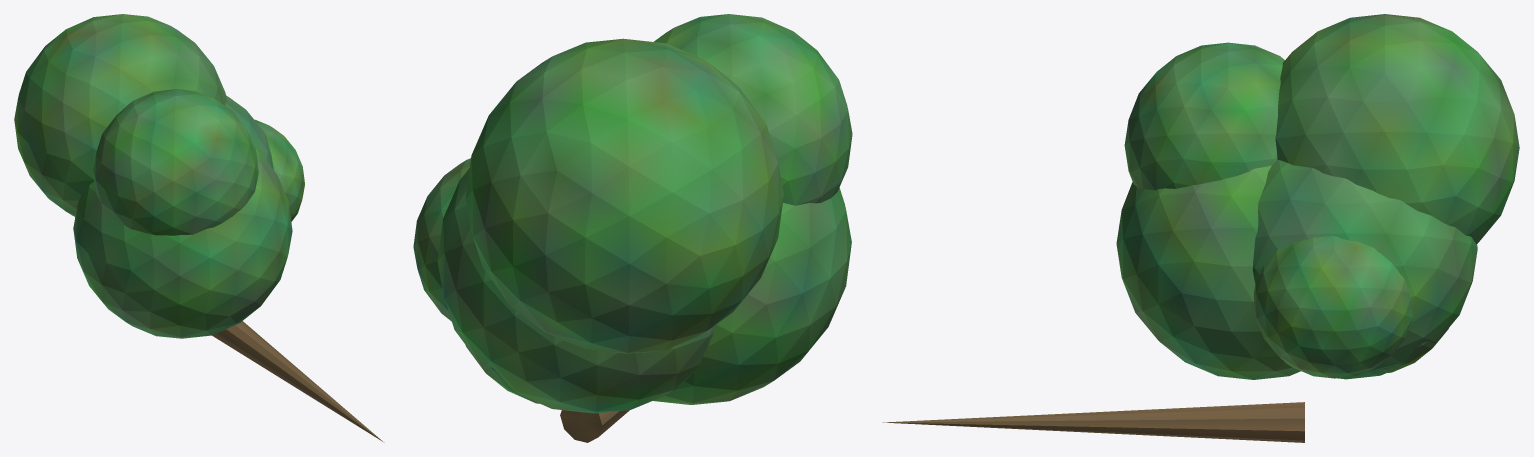
File: tree_0.glb
3 views of the same model, side by side, from view 1: azimuth 30°, elevation 25°; view 2: azimuth 150°, elevation 25°; view 3: azimuth 270°, elevation 25° (orthographic). The views are drawn at different scales.
Visible parts, largest first — view 1: world; view 2: world; view 3: world.
Part boxes in pixels (x1,y1,x2,y2): world: (14,14,384,442); world: (413,14,852,442); world: (882,14,1519,442).
Size of the model in its own units: 5.1 by 5.94 by 9.11.
